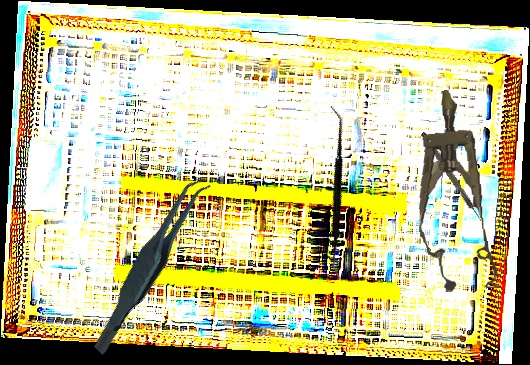Hook Surgical: (420, 130, 484, 224)
Spatula Surgical: (258, 104, 414, 282)
Speculum: (407, 87, 502, 294)
Tissue Forceps: (60, 173, 241, 356)
